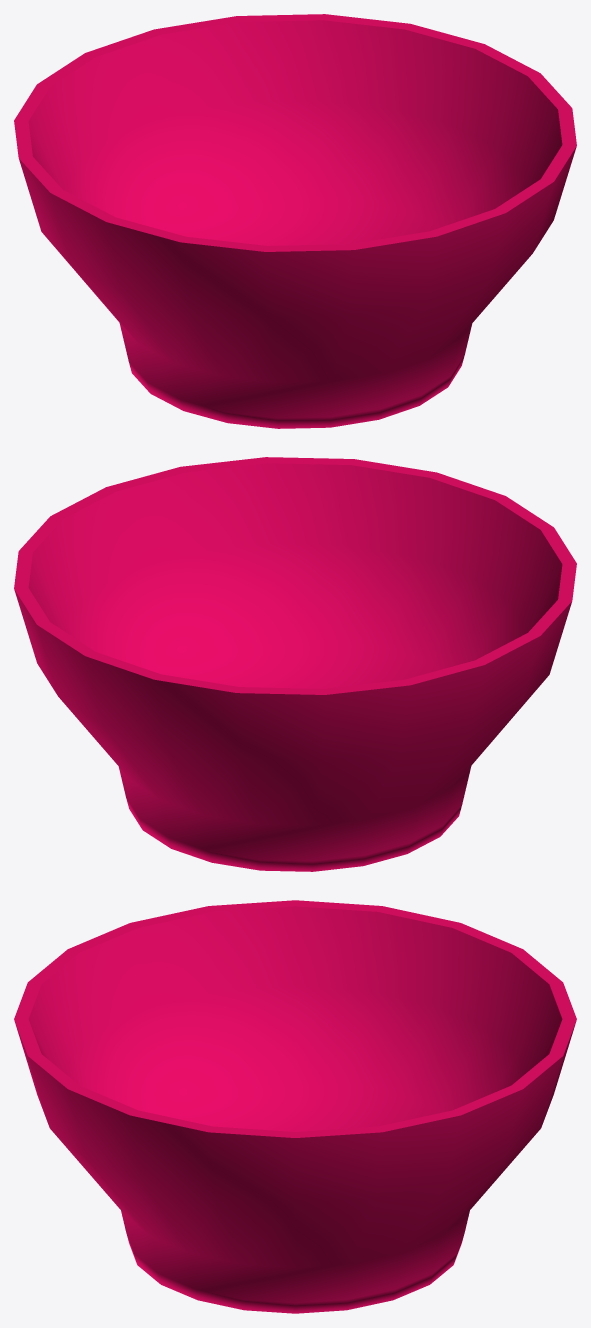
The model's file is Bowl_05_Lod0.fbx.
3 renders of one model, top to bottom at view 1: azimuth 30°, elevation 25°; view 2: azimuth 150°, elevation 25°; view 3: azimuth 270°, elevation 25°, orthographic.
Visible parts, largest first — view 1: Bowl_05_Lod0; view 2: Bowl_05_Lod0; view 3: Bowl_05_Lod0.
Part boxes in pixels (x1,y1,x2,y2): Bowl_05_Lod0: (14,14,576,428); Bowl_05_Lod0: (14,457,576,871); Bowl_05_Lod0: (14,900,576,1313).
Bounding box in the file's own units: 19 × 8.35 × 19.
